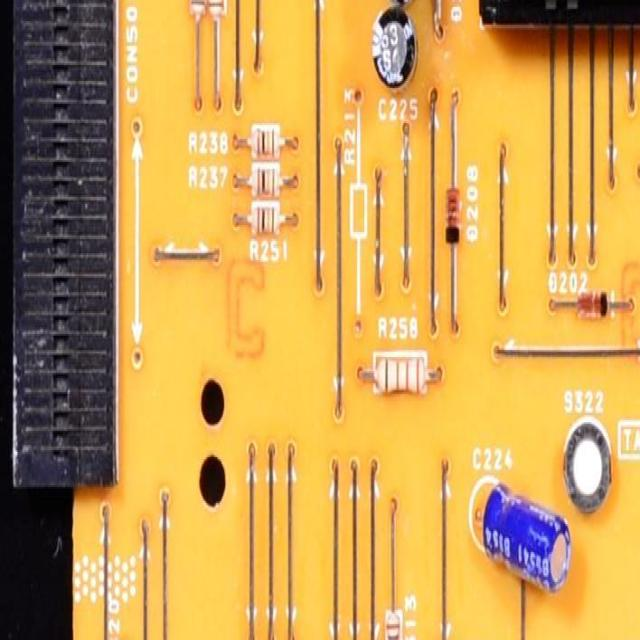capacitor: (472, 478, 572, 608), (370, 7, 417, 100), (375, 0, 427, 7)
resistor: (374, 344, 429, 410), (248, 116, 287, 168), (246, 162, 289, 206), (248, 197, 283, 244), (378, 599, 408, 640), (207, 0, 229, 35), (189, 0, 208, 39)
